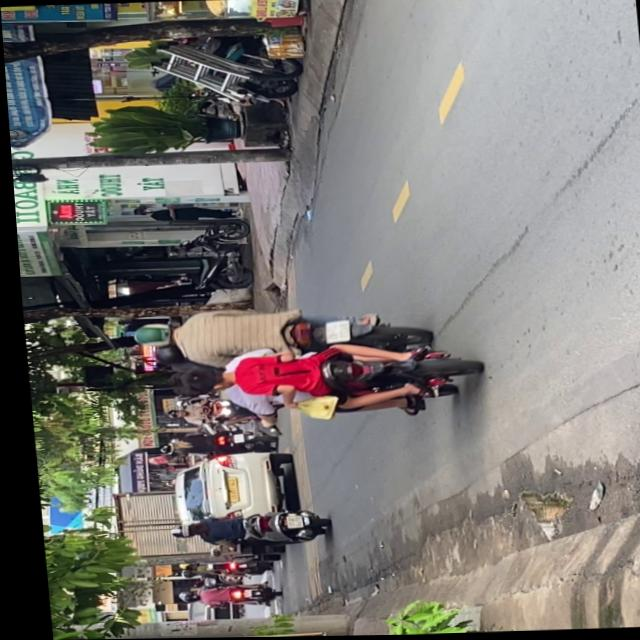helmet: (125, 321, 170, 347), (159, 521, 188, 536)
licenseplate: (149, 337, 477, 426), (123, 300, 427, 367), (157, 505, 322, 549)
motorcyclist: (168, 364, 229, 395)
nohelmet: (318, 319, 344, 342), (277, 515, 294, 528)
